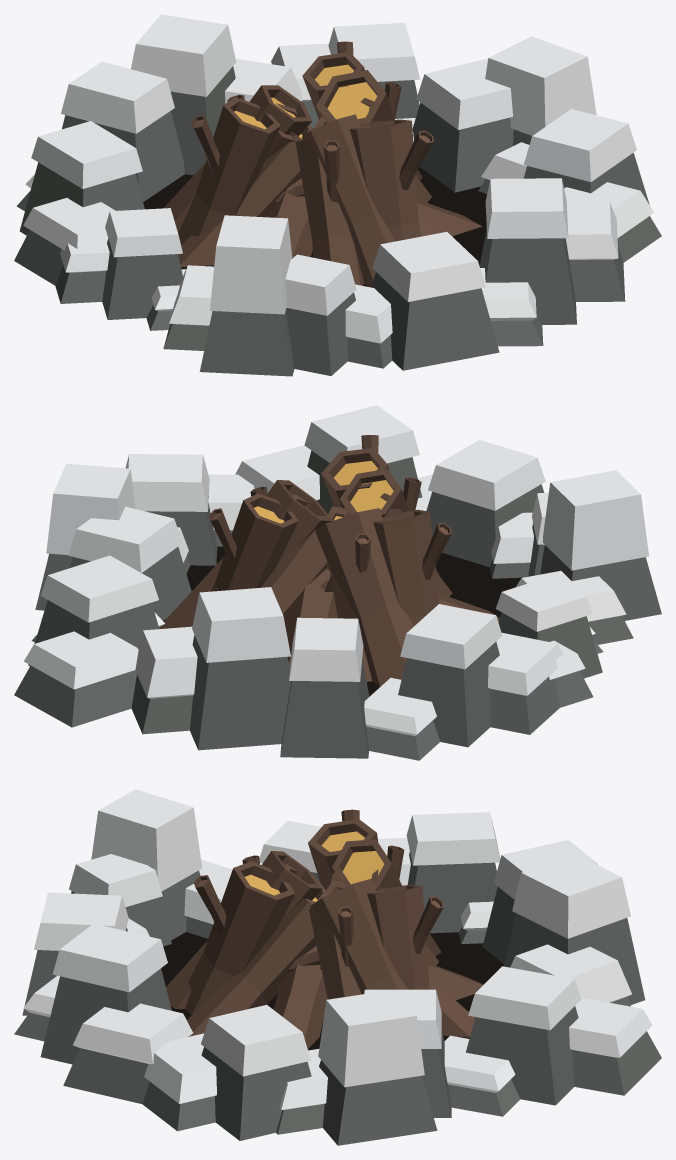
The model's file is Mesh_Campfire_NoFire.glb.
3 views of the same model, one above another, from view 1: azimuth 30°, elevation 25°; view 2: azimuth 150°, elevation 25°; view 3: azimuth 270°, elevation 25° (orthographic). The views are drawn at different scales.
Visible parts, largest first — view 1: Mesh_Campfire_NoFire; view 2: Mesh_Campfire_NoFire; view 3: Mesh_Campfire_NoFire.
Boxes of the visible parts, <box> form: Mesh_Campfire_NoFire: <box>14,14,661,376</box>; Mesh_Campfire_NoFire: <box>14,405,661,760</box>; Mesh_Campfire_NoFire: <box>14,789,661,1145</box>.
Bounding box in the file's own units: 0.875 × 0.3082 × 0.9054.
Materials: 1 (1 with a texture image).
